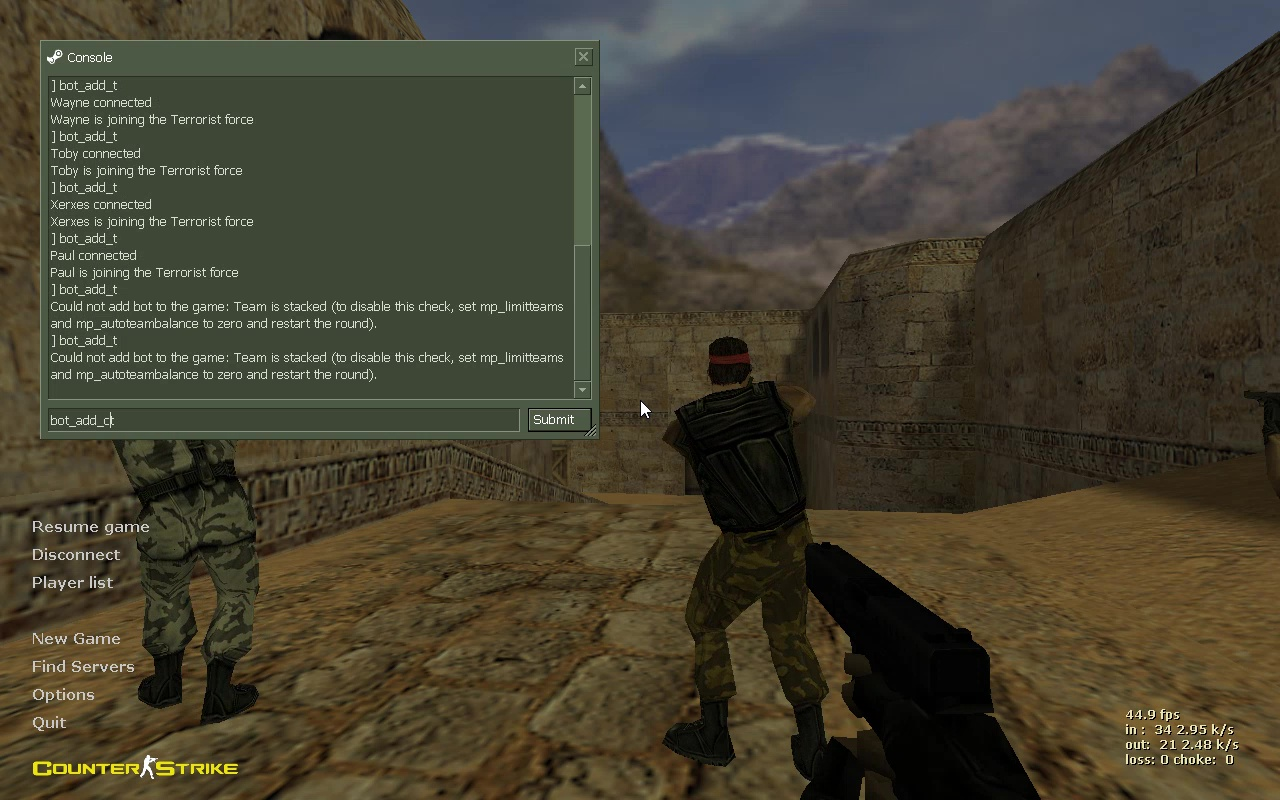terr1: (643, 339, 862, 772)
terr2: (95, 296, 278, 718)
